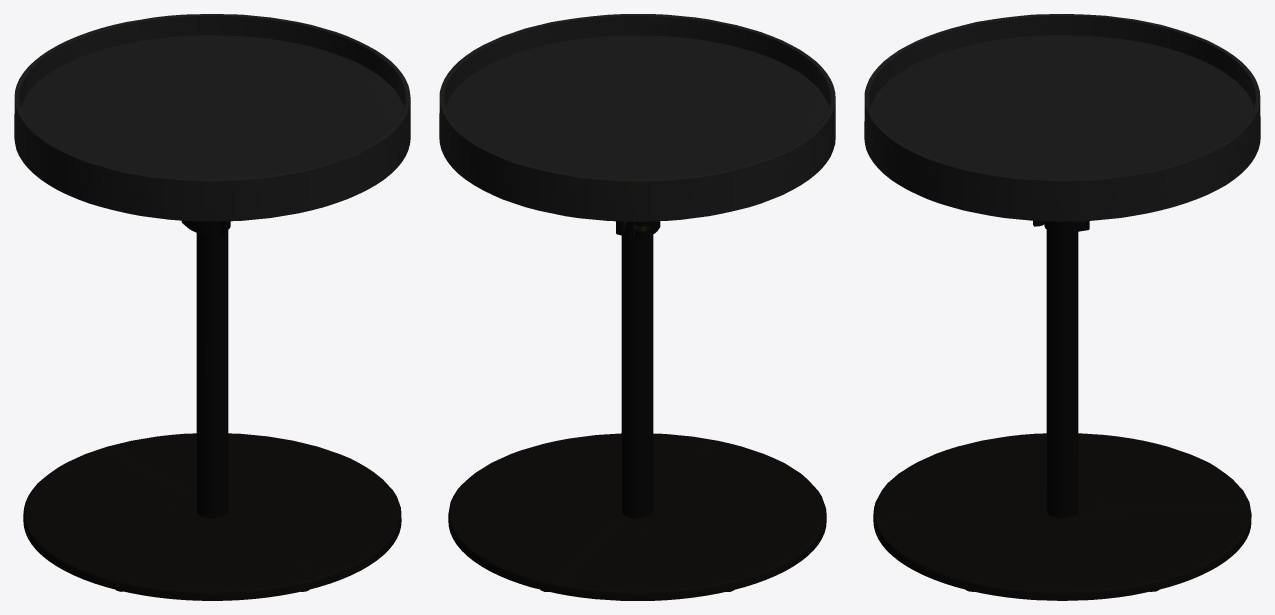
File: tranered_stolik_30609001.glb
3 views of the same model, side by side, from view 1: azimuth 30°, elevation 25°; view 2: azimuth 150°, elevation 25°; view 3: azimuth 270°, elevation 25° (orthographic).
Parts seen in each view (by area): view 1: tranered_stolik_30609001; view 2: tranered_stolik_30609001; view 3: tranered_stolik_30609001.
Boxes of the visible parts, x1,y1,x2,y2 form: tranered_stolik_30609001: [14, 14, 410, 600]; tranered_stolik_30609001: [439, 14, 835, 600]; tranered_stolik_30609001: [864, 14, 1260, 600].
Size of the model in its own units: 0.4389 by 0.5203 by 0.439.
Materials: 1 (1 with a texture image).
